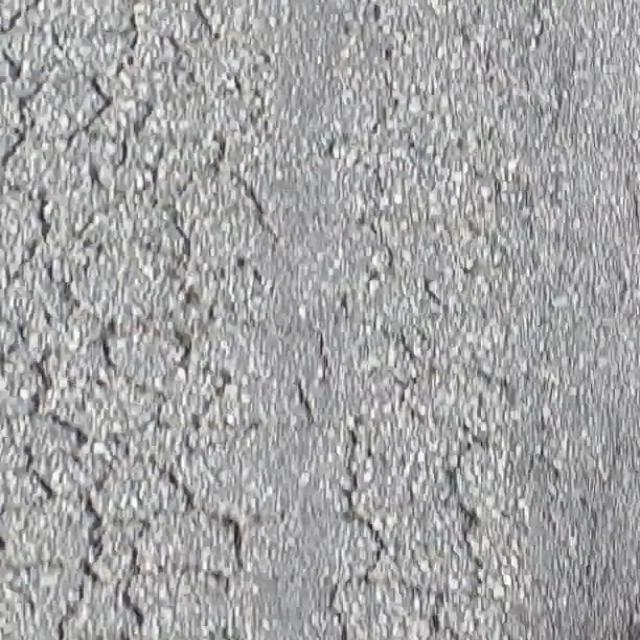PIEL DE COCODRILO: (0, 0, 284, 639), (294, 116, 564, 639)
